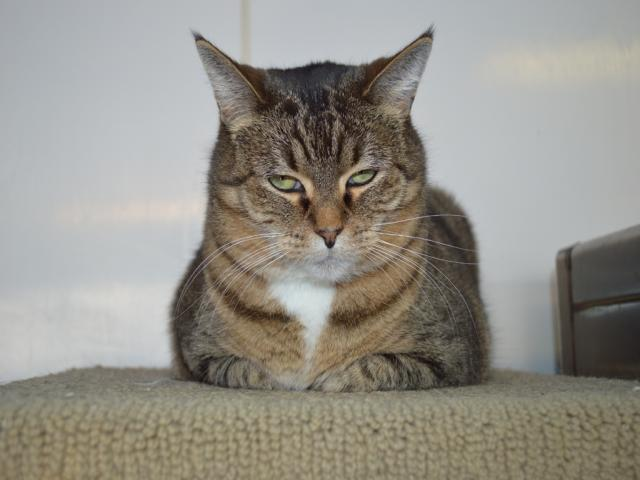Cat: (164, 24, 494, 399)
